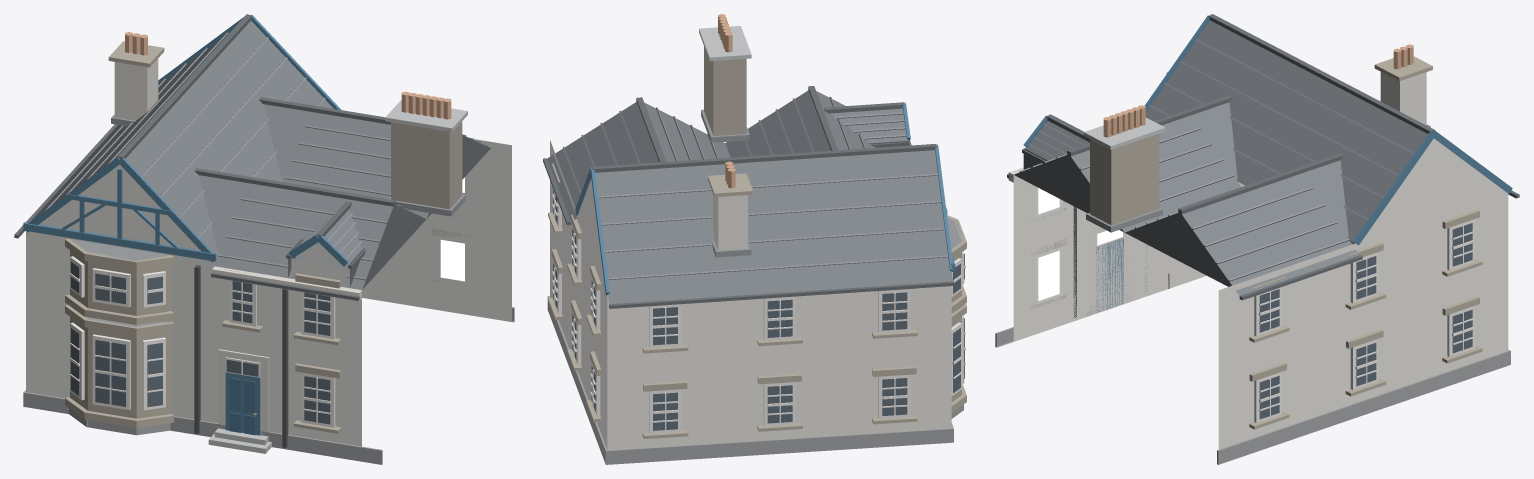
3 renders of one model, left to right at view 1: azimuth 30°, elevation 25°; view 2: azimuth 150°, elevation 25°; view 3: azimuth 270°, elevation 25°, orthographic. The views are drawn at different scales.
Parts seen in each view (by area): view 1: harl, slate, doorcase, slate_dk, door_blue, frame, chim_stone, slate_lt, plinth, string, chim_render, pipe (+11 smaller); view 2: slate, harl, frame, doorcase, plinth, slate_dk, slate_lt, chim_stone, chim_render, door_blue, stone_band, lead (+8 smaller); view 3: harl, slate, slate_dk, chim_stone, frame, plinth, slate_lt, doorcase, door_blue, chim_render, pot, stone_band (+9 smaller).
Part boxes in pixels (x1=…): harl: x1=26, y1=139, x2=511, y2=446; slate: x1=18, y1=21, x2=428, y2=289; doorcase: x1=65, y1=41, x2=473, y2=433; slate_dk: x1=14, y1=14, x2=490, y2=300; door_blue: x1=23, y1=14, x2=348, y2=435; frame: x1=70, y1=237, x2=455, y2=427; chim_stone: x1=391, y1=121, x2=462, y2=209; slate_lt: x1=44, y1=32, x2=487, y2=280; plinth: x1=23, y1=307, x2=514, y2=464; string: x1=212, y1=266, x2=361, y2=435; chim_render: x1=114, y1=58, x2=158, y2=120; pipe: x1=194, y1=265, x2=288, y2=447; slate: x1=547, y1=90, x2=952, y2=304; harl: x1=550, y1=140, x2=951, y2=450; frame: x1=552, y1=187, x2=965, y2=433; doorcase: x1=548, y1=163, x2=966, y2=438; plinth: x1=547, y1=296, x2=963, y2=464; slate_dk: x1=543, y1=86, x2=953, y2=308; slate_lt: x1=562, y1=96, x2=948, y2=279; chim_stone: x1=704, y1=46, x2=746, y2=135; chim_render: x1=713, y1=194, x2=747, y2=250; door_blue: x1=575, y1=102, x2=955, y2=295; stone_band: x1=699, y1=25, x2=751, y2=61; lead: x1=701, y1=109, x2=963, y2=312; harl: x1=1013, y1=138, x2=1508, y2=449; slate: x1=1025, y1=20, x2=1514, y2=295; slate_dk: x1=1007, y1=14, x2=1519, y2=300; chim_stone: x1=1090, y1=133, x2=1159, y2=225; frame: x1=1035, y1=187, x2=1474, y2=422; plinth: x1=995, y1=275, x2=1510, y2=464; slate_lt: x1=1019, y1=38, x2=1414, y2=281; doorcase: x1=1031, y1=56, x2=1482, y2=429; door_blue: x1=1023, y1=14, x2=1512, y2=311; chim_render: x1=1380, y1=72, x2=1426, y2=125; pot: x1=1103, y1=44, x2=1413, y2=137; stone_band: x1=1083, y1=117, x2=1165, y2=316.
Bounding box in the file's own units: 15.24 × 9.27 × 15.33.
